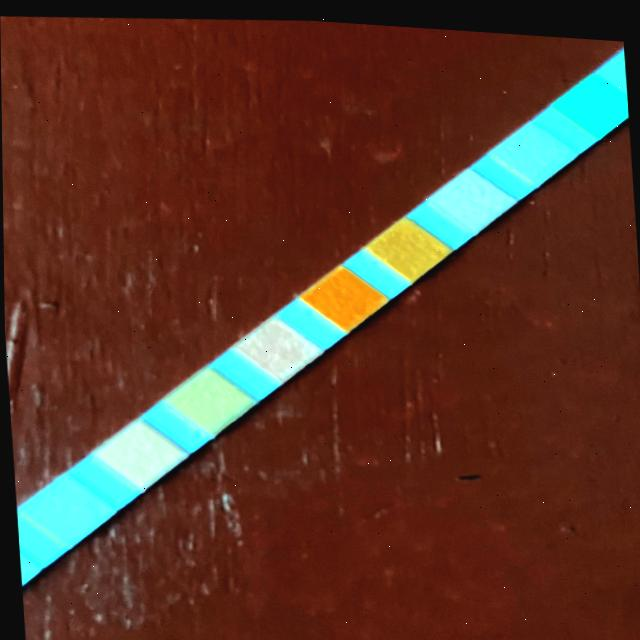Bilirubin: (509, 127, 557, 163)
Blood: (319, 275, 368, 315)
Glucose: (574, 79, 621, 117)
Ketone: (449, 176, 498, 213)
Nitrite: (42, 489, 91, 534)
Protein: (183, 376, 233, 421)
SpGravity: (385, 226, 432, 264)
Urobilinogen: (114, 432, 164, 476)
pH: (252, 328, 301, 365)
